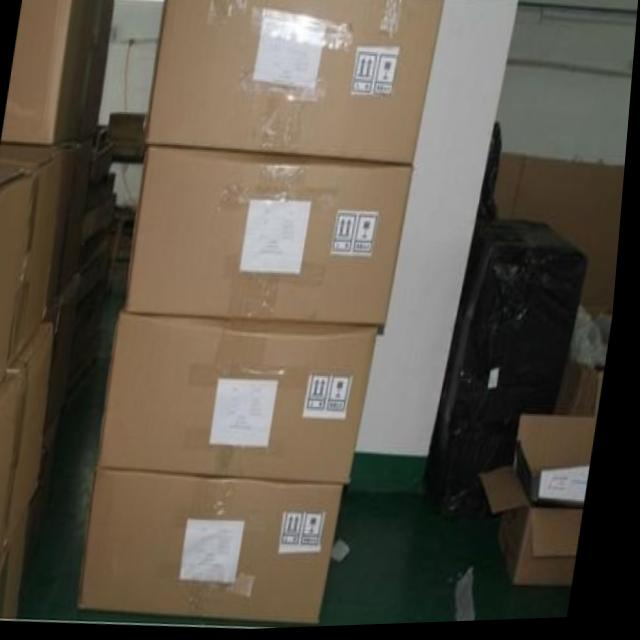box: (129, 148, 415, 332), (145, 0, 445, 167), (105, 315, 382, 486), (87, 468, 351, 627), (489, 420, 604, 591), (0, 143, 67, 389), (5, 0, 115, 145), (0, 322, 58, 584), (52, 136, 96, 316), (47, 275, 83, 466), (0, 519, 34, 617)
